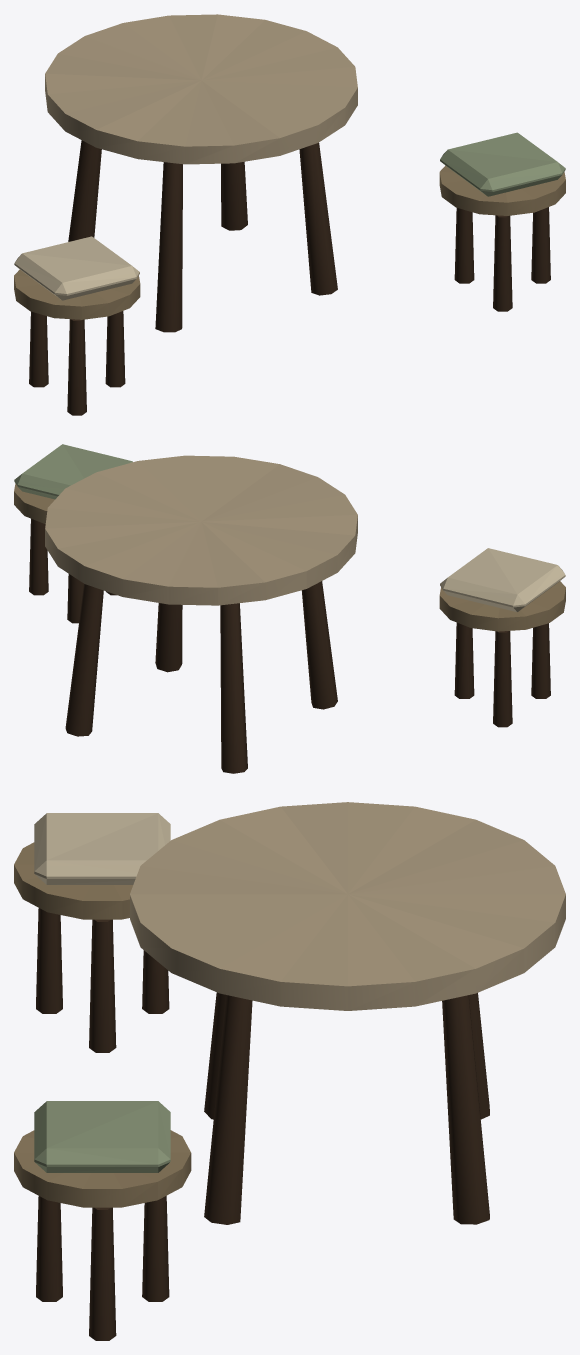
File: kids_table_set.glb
3 views of the same model, one above another, from view 1: azimuth 30°, elevation 25°; view 2: azimuth 150°, elevation 25°; view 3: azimuth 270°, elevation 25° (orthographic). The views are drawn at different scales.
Parts seen in each view (by area): view 1: kids_table_set; view 2: kids_table_set; view 3: kids_table_set.
Boxes of the visible parts, box(x1,y1,x2,y2) form: kids_table_set: box(14, 14, 565, 415); kids_table_set: box(14, 444, 565, 773); kids_table_set: box(14, 802, 565, 1340).
Bounding box in the file's own units: 1.25 × 0.4419 × 0.81.
